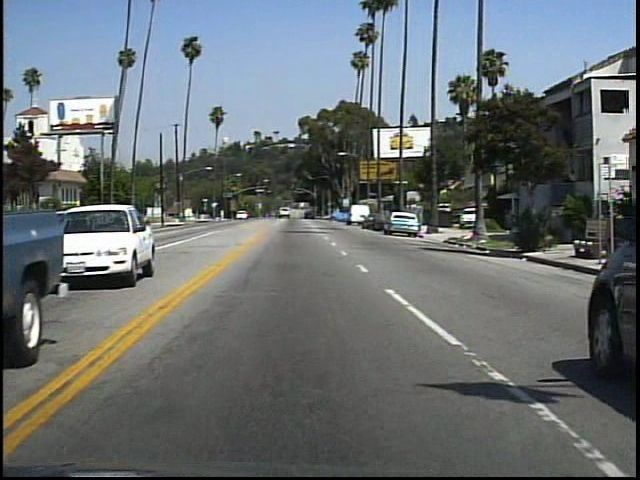person: (519, 198, 544, 252)
